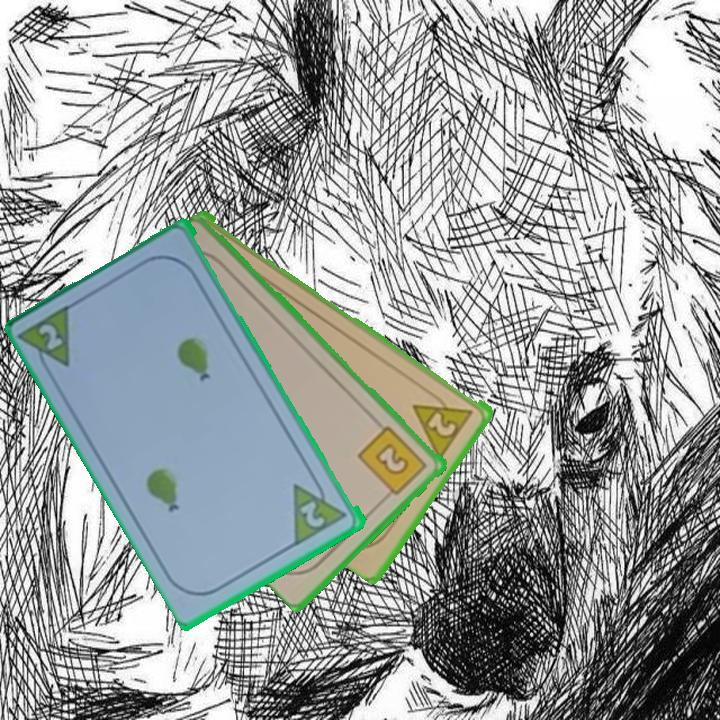2b: (355, 422, 431, 503)
2p: (409, 386, 476, 461), (297, 497, 329, 531), (35, 320, 67, 354)
